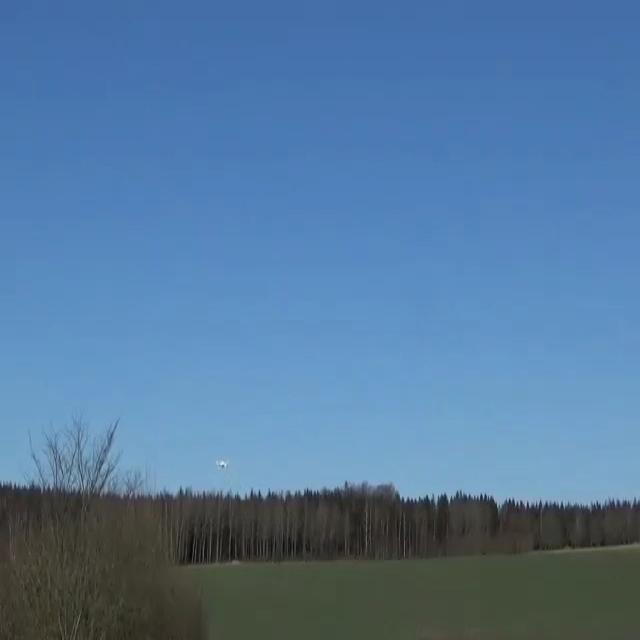drone: (215, 460, 229, 470)
